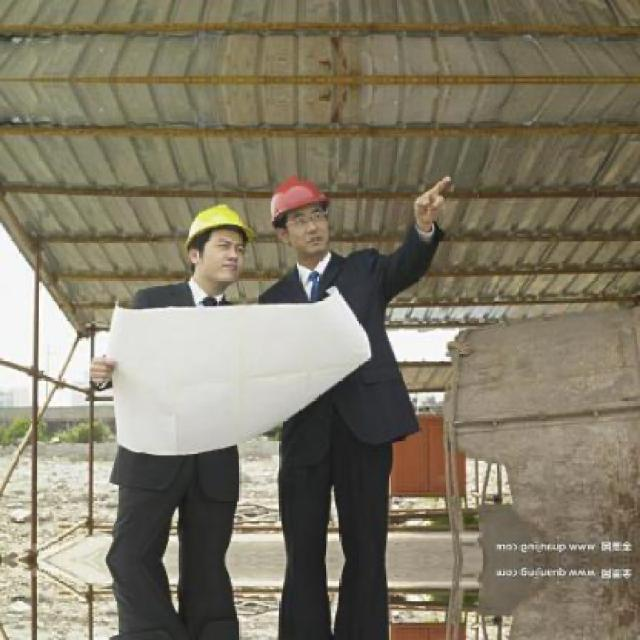con casco: (264, 181, 351, 251), (183, 197, 270, 261)
